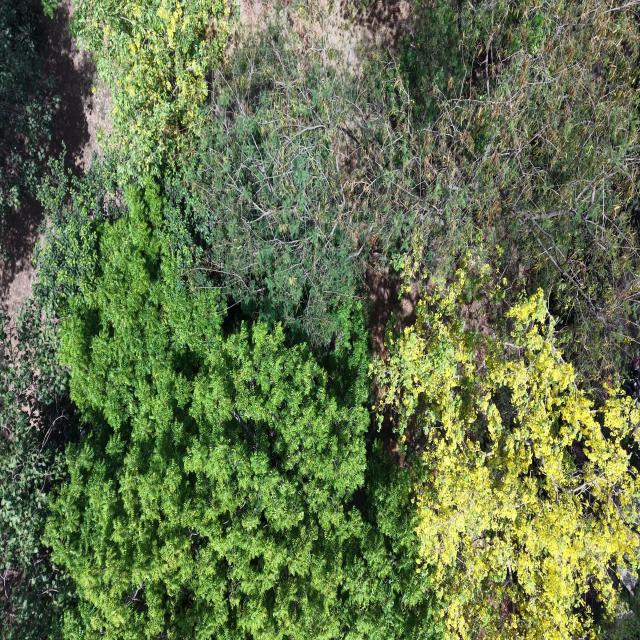DRY_AREA: (37, 0, 109, 174), (39, 0, 110, 173), (40, 0, 110, 173), (41, 0, 110, 174), (42, 0, 110, 173), (44, 0, 110, 172), (287, 0, 413, 73), (289, 0, 412, 72), (288, 0, 411, 72), (366, 269, 432, 360), (365, 262, 420, 359), (0, 198, 42, 318), (366, 268, 420, 359), (366, 269, 420, 359), (340, 0, 412, 50)
VEGETATION_TREE: (0, 0, 639, 639), (177, 2, 638, 386), (45, 184, 434, 639), (382, 3, 637, 637), (342, 0, 639, 386), (374, 270, 639, 639), (398, 0, 639, 381), (167, 18, 422, 346), (169, 24, 364, 345), (0, 160, 117, 639), (72, 0, 234, 175), (0, 303, 74, 639), (34, 154, 125, 318), (0, 0, 57, 215), (602, 590, 639, 639)
